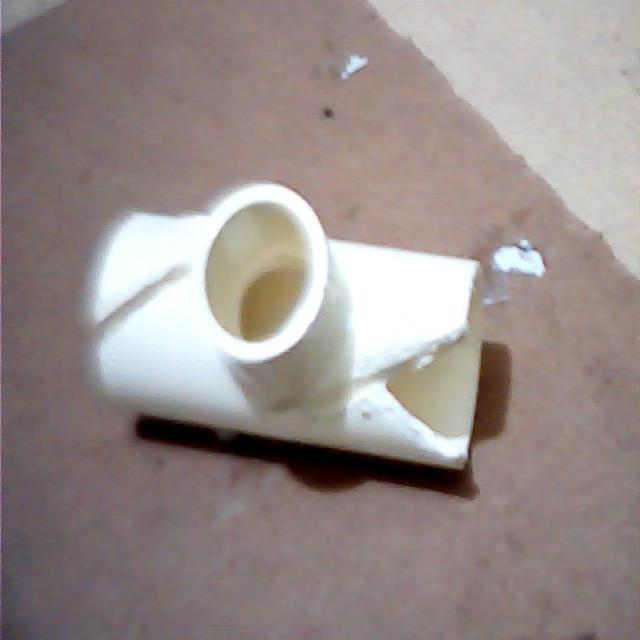Defective: (280, 328, 478, 464), (102, 242, 180, 366)
T Joint: (82, 182, 486, 469)
